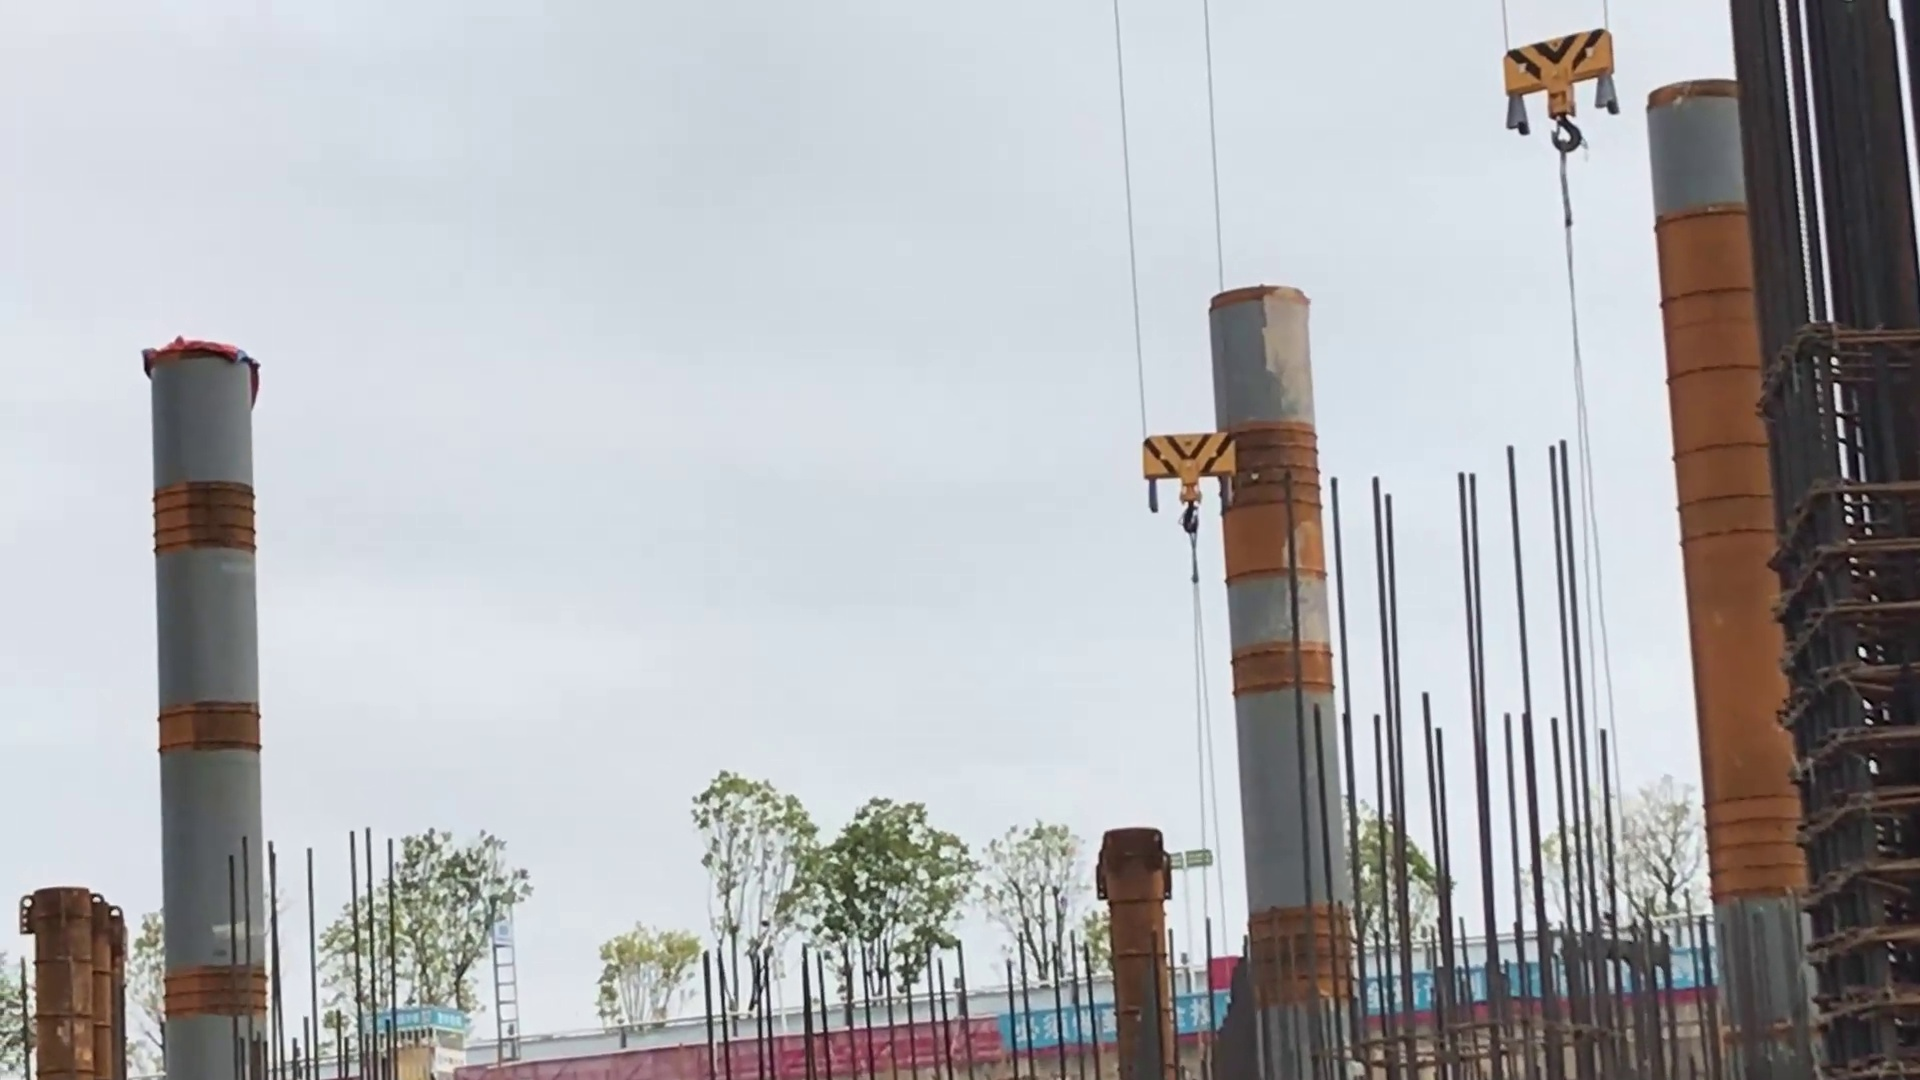hook: (1501, 25, 1625, 160), (1137, 427, 1240, 541)
slogan: (1010, 1000, 1120, 1050), (359, 1009, 468, 1038)
